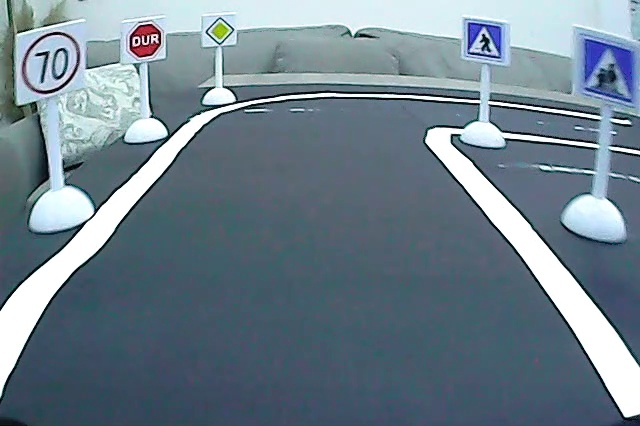pedestrian crossing: (464, 18, 507, 64)
school crossing: (576, 32, 639, 108)
speed limit 70: (19, 30, 83, 99)
stop sign: (125, 20, 164, 58)
